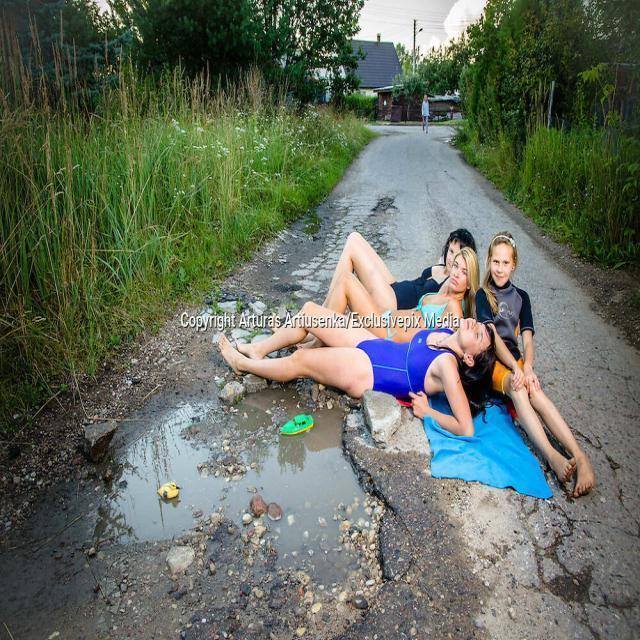pothole: (113, 357, 435, 640)
